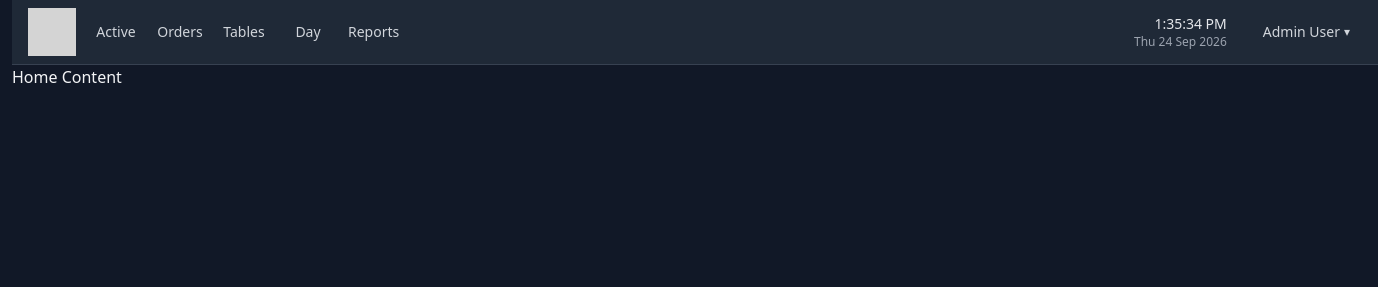
Test: Layout TopBar › navigates to /admin from the menu and closes it
This screenshot has width=1378, height=287.
Click the button "Admin User ▾" at (1306, 32), box [1251,8,1362,56]
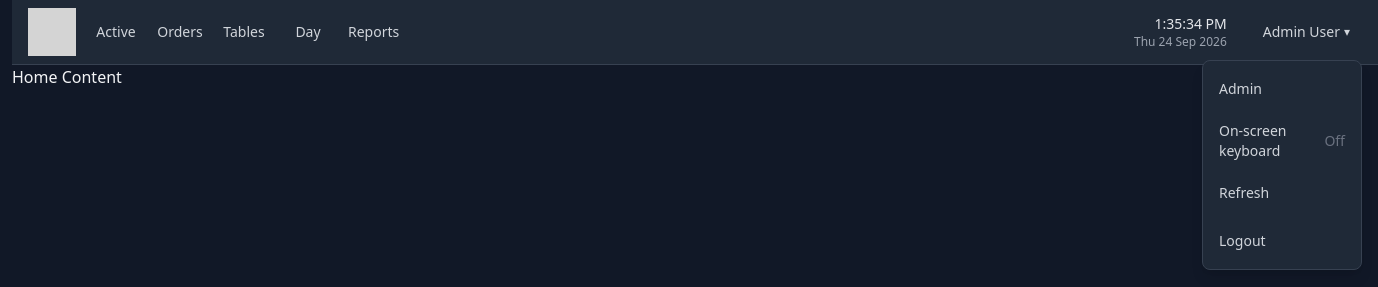
Click the menu item "Admin" at (1240, 88), box [1219,79,1262,98]
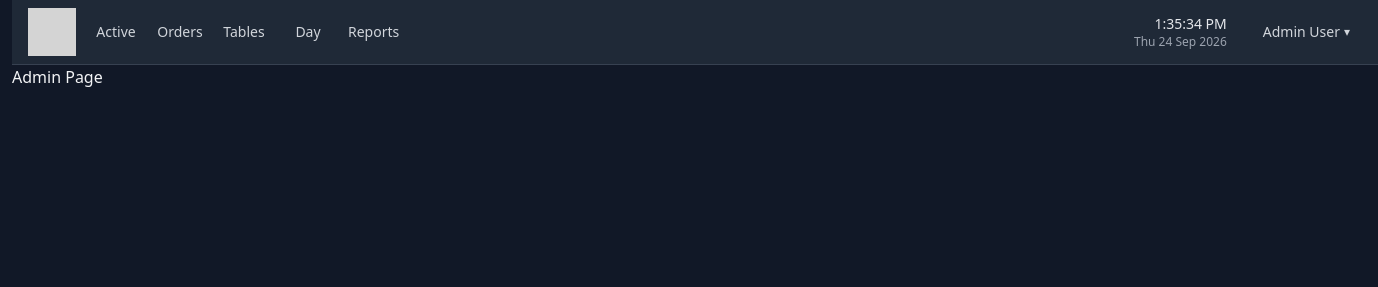
Result: the text "Admin Page" is shown at [12,66,103,88]
Result: the menu item is gone
